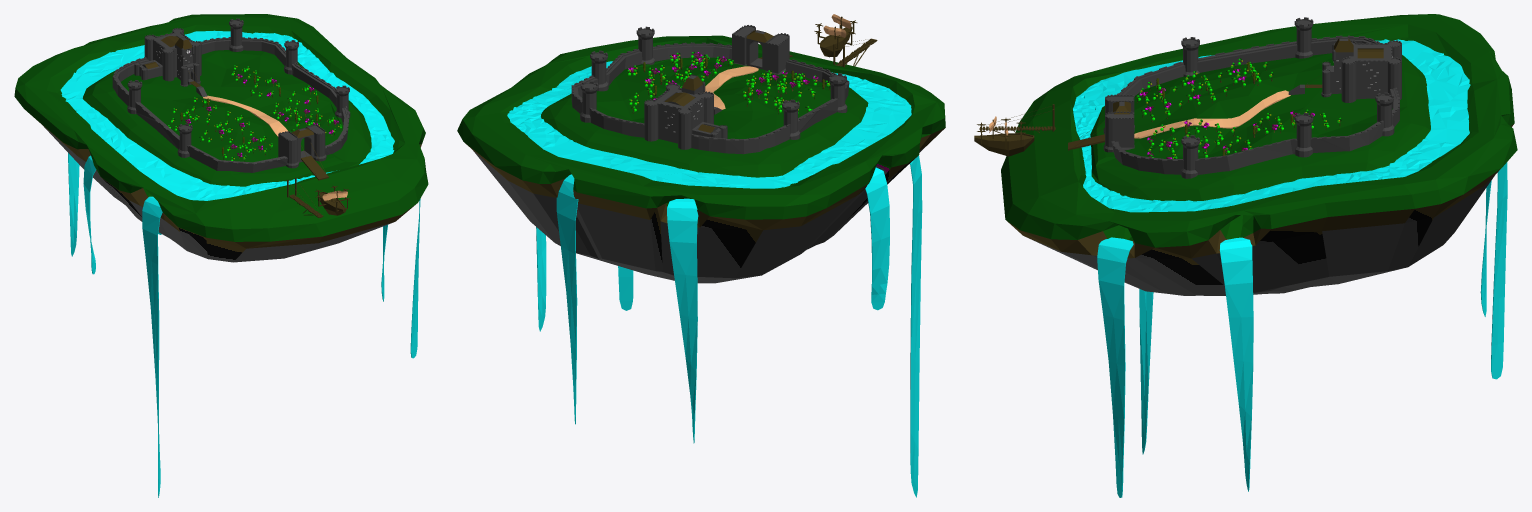
File: Islandn.glb
3 views of the same model, side by side, from view 1: azimuth 30°, elevation 25°; view 2: azimuth 150°, elevation 25°; view 3: azimuth 270°, elevation 25° (orthographic). The views are drawn at different scales.
Parts seen in each view (by area): view 1: Cube.089; view 2: Cube.089; view 3: Cube.089.
Part boxes in pixels (x1=…): Cube.089: x1=14, y1=14, x2=428, y2=497; Cube.089: x1=457, y1=14, x2=945, y2=497; Cube.089: x1=974, y1=14, x2=1517, y2=497.
Bounding box in the file's own units: 5990 × 7007 × 7186.
1 material, 1 textured.
